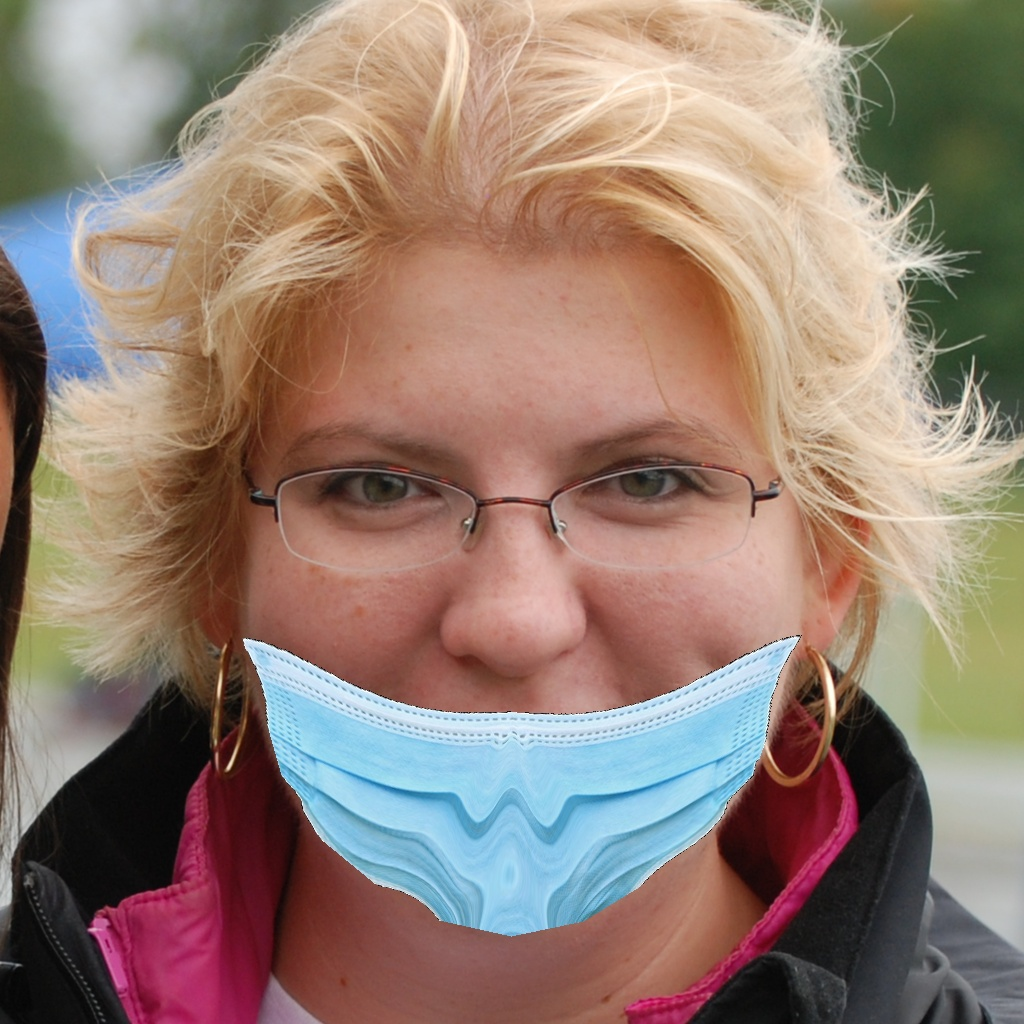mascarilla_mal_puesta: (224, 305, 822, 918)
